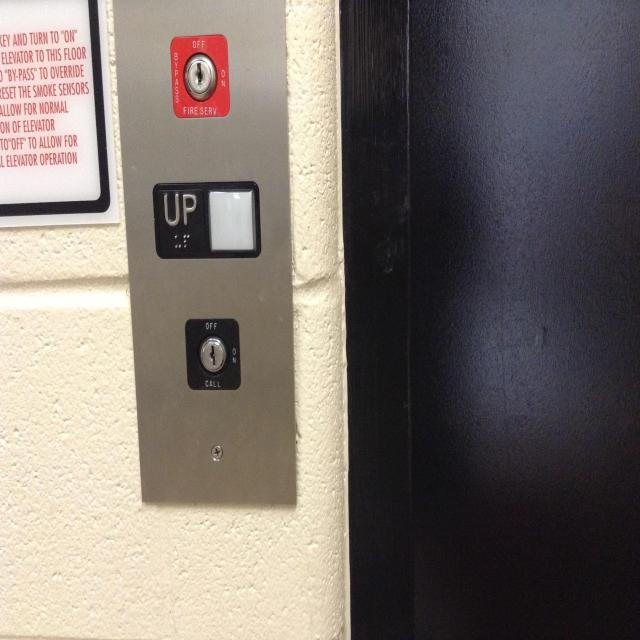UP: (150, 174, 265, 262)
bt_keyhole: (168, 30, 232, 122), (182, 313, 244, 393)
